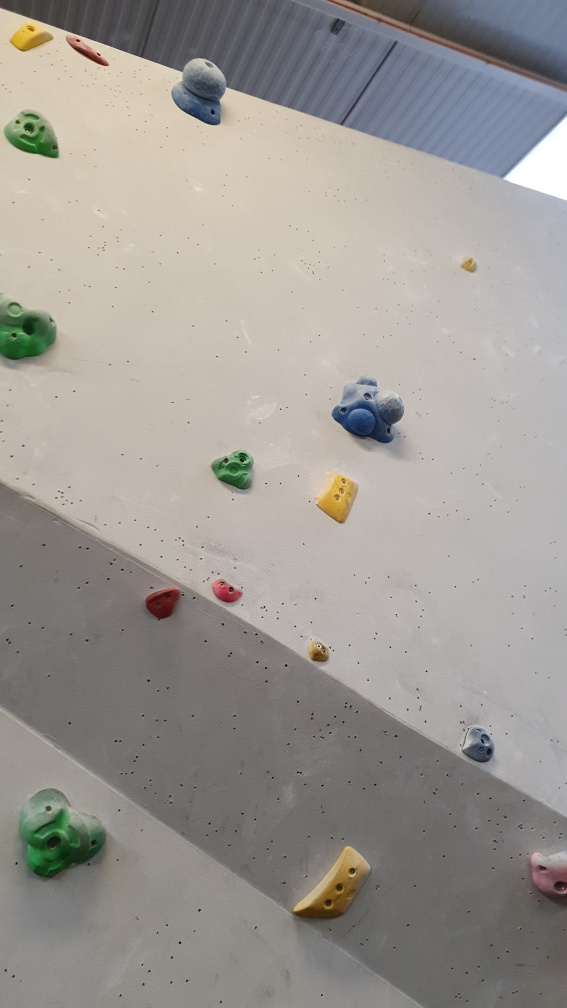Crimp: (290, 840, 378, 927), (314, 467, 365, 525)
Jug: (16, 776, 111, 884), (1, 292, 67, 376), (1, 101, 69, 163), (199, 441, 262, 498)
Pinch: (9, 15, 54, 57)
Sloper: (326, 370, 409, 446), (169, 50, 233, 130)
